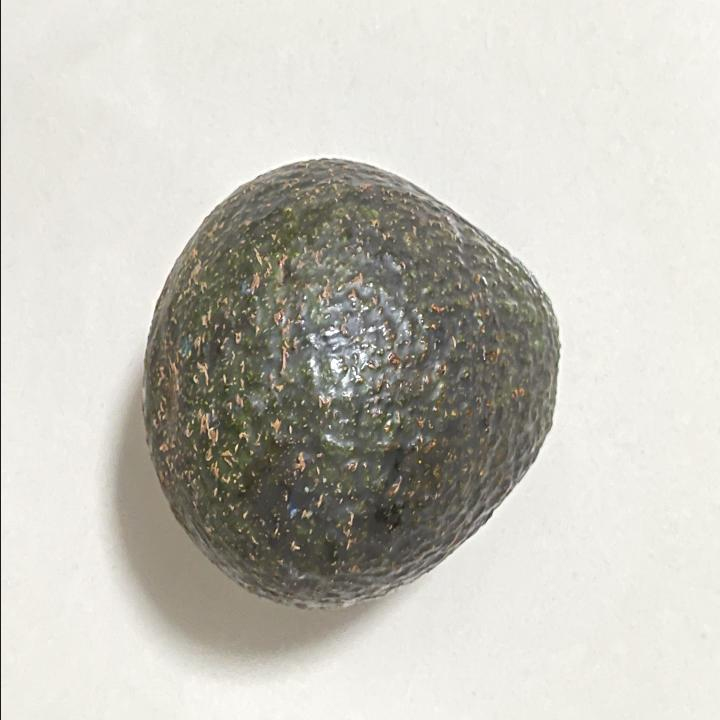Level1: (127, 139, 574, 628)
